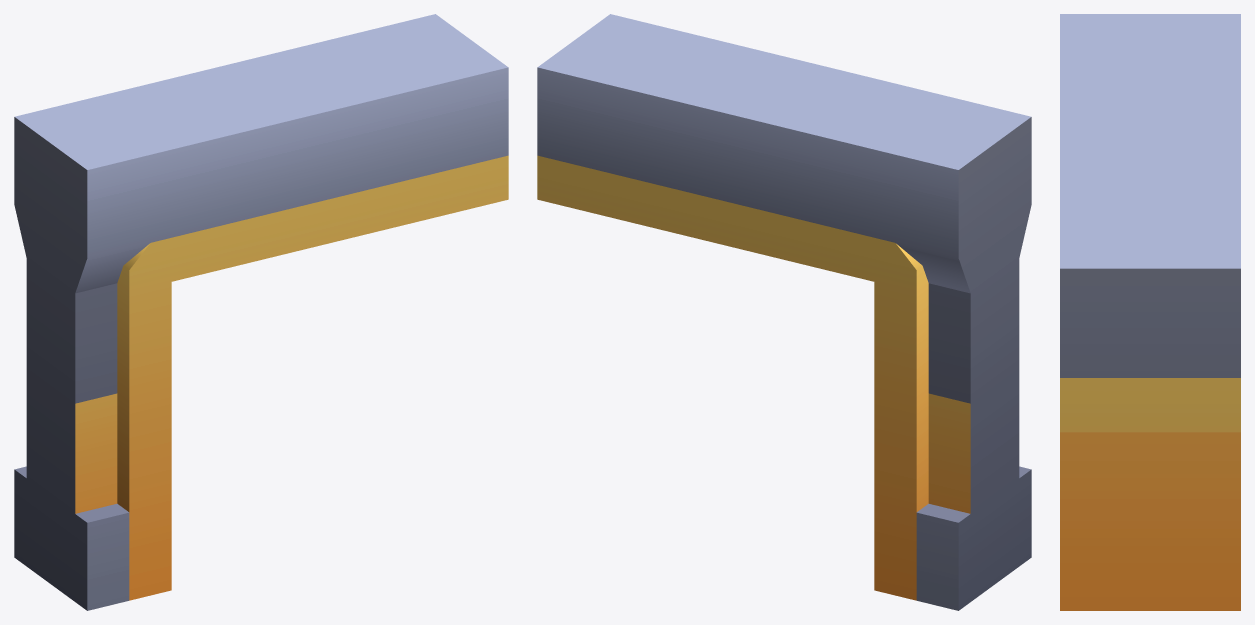
File: wall-door-edge-banner.glb
The picture shows the model from 3 angles, left to right: view 1: azimuth 30°, elevation 25°; view 2: azimuth 150°, elevation 25°; view 3: azimuth 270°, elevation 25°; orthographic projection. The views are drawn at different scales.
Parts seen in each view (by area): view 1: wall-door-edge-banner; view 2: wall-door-edge-banner; view 3: wall-door-edge-banner.
Part boxes in pixels (<box>): wall-door-edge-banner: <box>14,14,508,610</box>; wall-door-edge-banner: <box>537,14,1031,610</box>; wall-door-edge-banner: <box>1060,14,1240,610</box>.
Size of the model in its own units: 1 by 1 by 0.3.
1 material, 1 textured.
